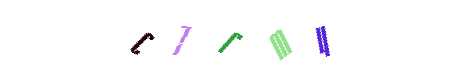4: (238, 0, 318, 80)
7: (180, 0, 260, 80)
C: (101, 0, 181, 80)
M: (226, 0, 306, 80)
R: (192, 0, 272, 80)
